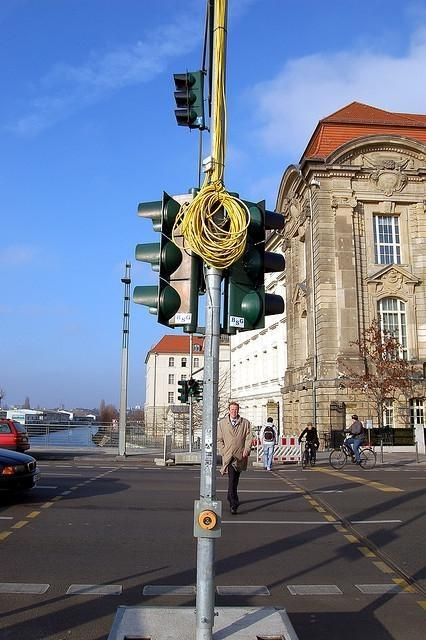bicycle: (329, 430, 378, 471), (300, 441, 316, 468)
car: (4, 448, 37, 506), (0, 420, 31, 452)
